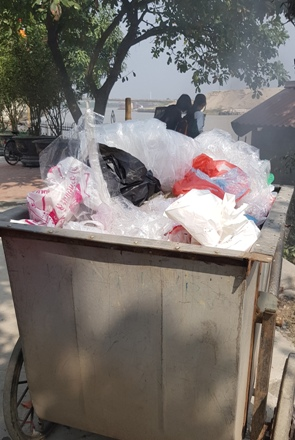plastic bag: (26, 90, 278, 252)
